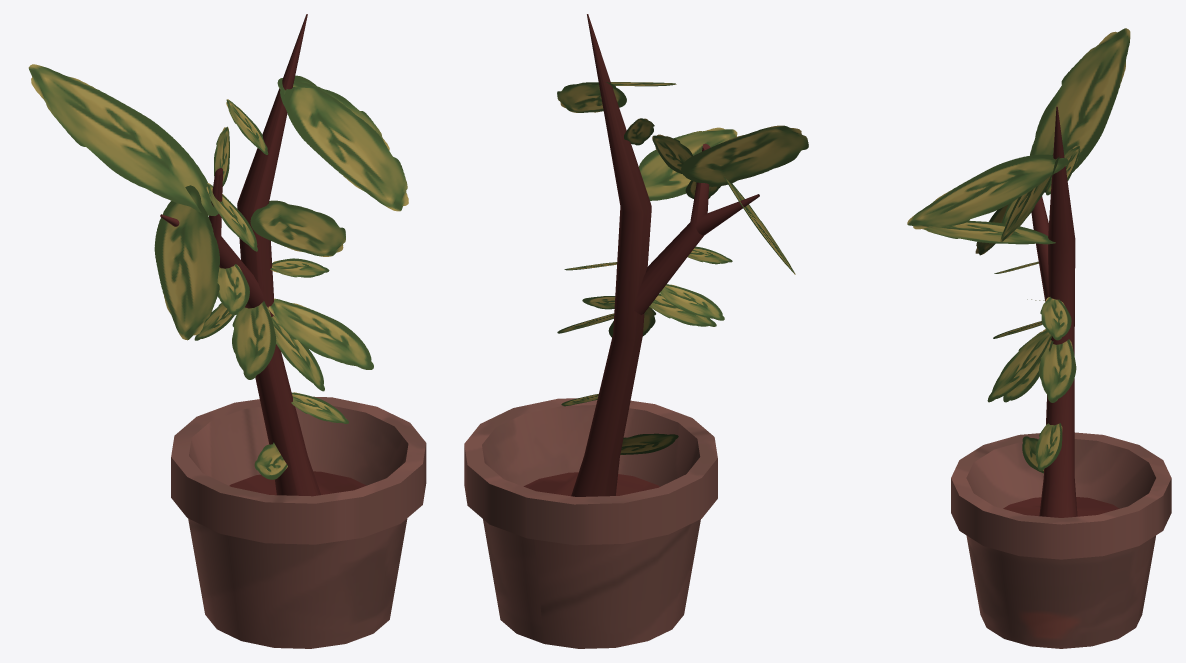
File: Arbusto.fbx
3 renders of one model, left to right at view 1: azimuth 30°, elevation 25°; view 2: azimuth 150°, elevation 25°; view 3: azimuth 270°, elevation 25°, orthographic. The views are drawn at different scales.
Parts seen in each view (by area): view 1: Arbusto; view 2: Arbusto; view 3: Arbusto.
Boxes of the visible parts, x1,y1,x2,y2 form: Arbusto: [28, 14, 426, 648]; Arbusto: [464, 14, 808, 648]; Arbusto: [907, 28, 1171, 648].
Size of the model in its own units: 110 by 85.28 by 172.
